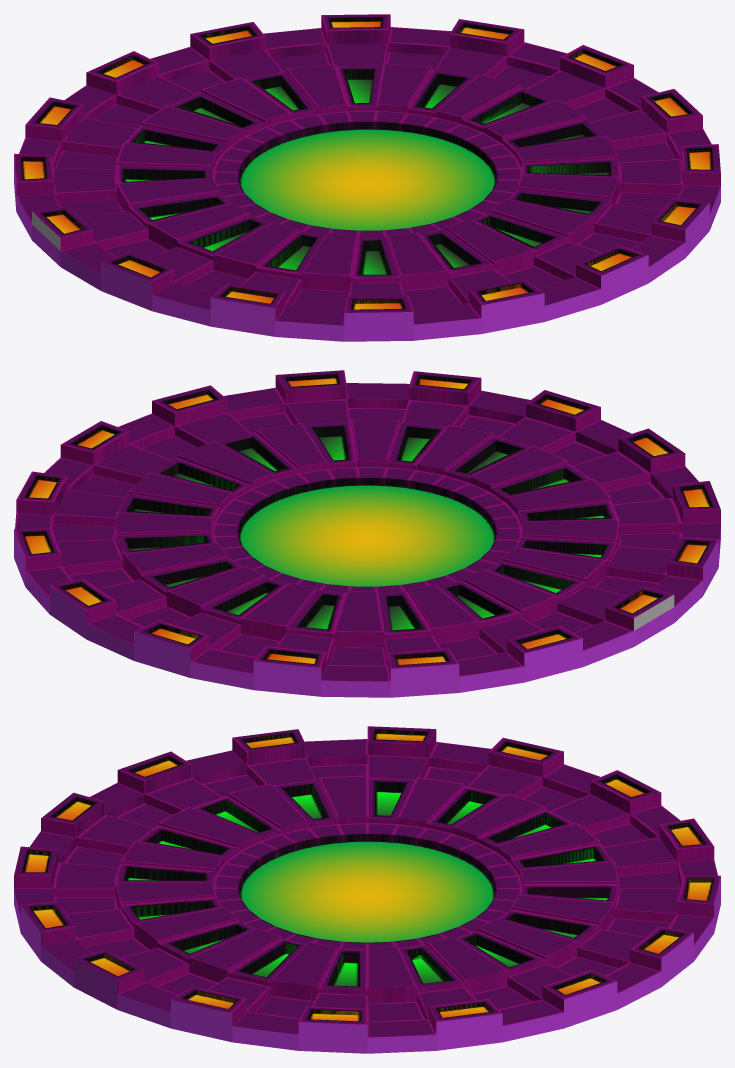
The model's file is Start Gate.fbx.
The picture shows the model from 3 angles, top to bottom: view 1: azimuth 30°, elevation 25°; view 2: azimuth 150°, elevation 25°; view 3: azimuth 270°, elevation 25°; orthographic projection.
Visible parts, largest first — view 1: Cylinder; view 2: Cylinder; view 3: Cylinder.
Boxes of the visible parts, left/top/right/bottom form: Cylinder: left=14, top=14, right=720, bottom=341; Cylinder: left=14, top=370, right=720, bottom=697; Cylinder: left=14, top=726, right=720, bottom=1053.
Size of the model in its own units: 20 by 0.8979 by 20.
Materials: 3 (1 with a texture image).
